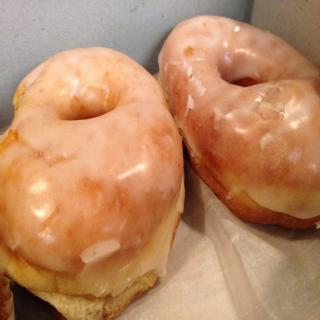Doughnut: (0, 43, 185, 319), (156, 14, 320, 228)
